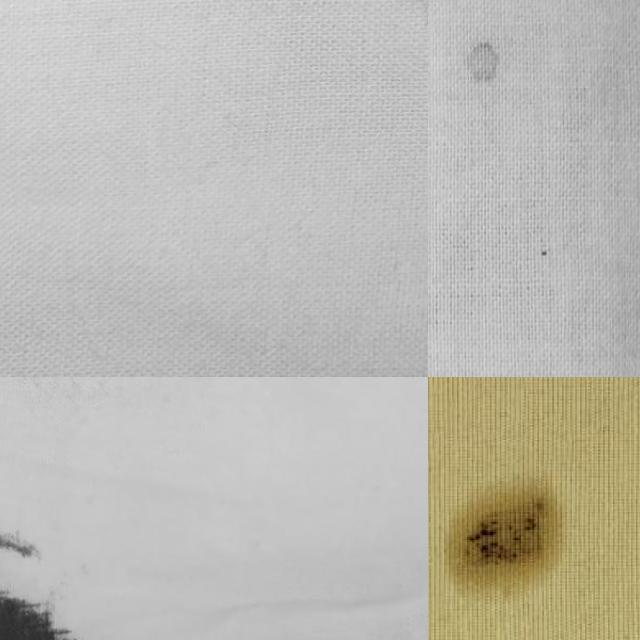Hole: (432, 456, 576, 610), (0, 502, 110, 640), (446, 22, 520, 104)
